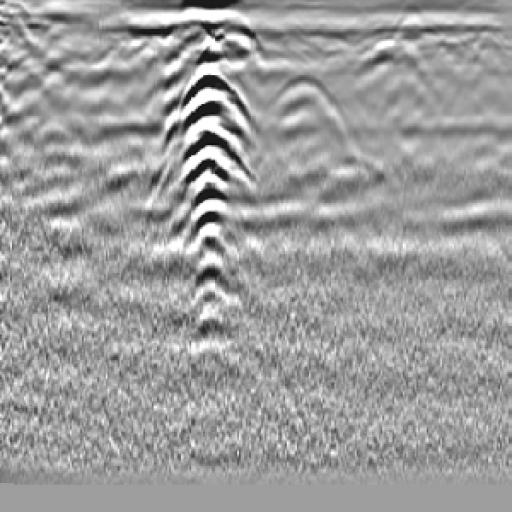metalic: (153, 22, 264, 335)
nonmetalic: (259, 73, 368, 197)
